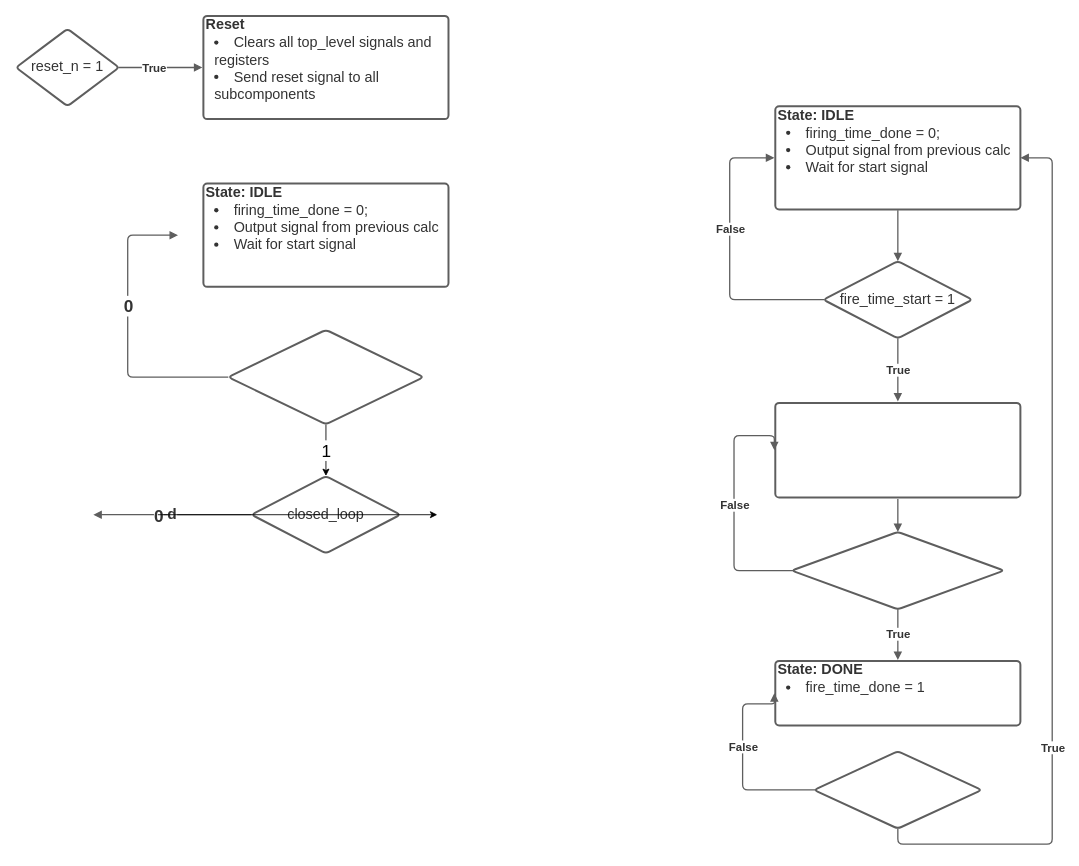
Image size: 1079x866. Some labels were removed from this diagram. Here are the shapes that lost their labels. From the top down, the centre of each, then its label:
At (x=325, y=376): "count_step = 0 or count_step = t_o".
At (x=897, y=450): "State: MULTIPLY Determine Sector Based on what sector -> calc and output fire".
At (x=897, y=570): "int_mult _counter >= int_mult_delay".
At (x=897, y=789): "done _count >= done_delay".
